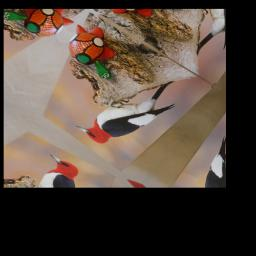Woodpecker: (73, 58, 190, 162)
